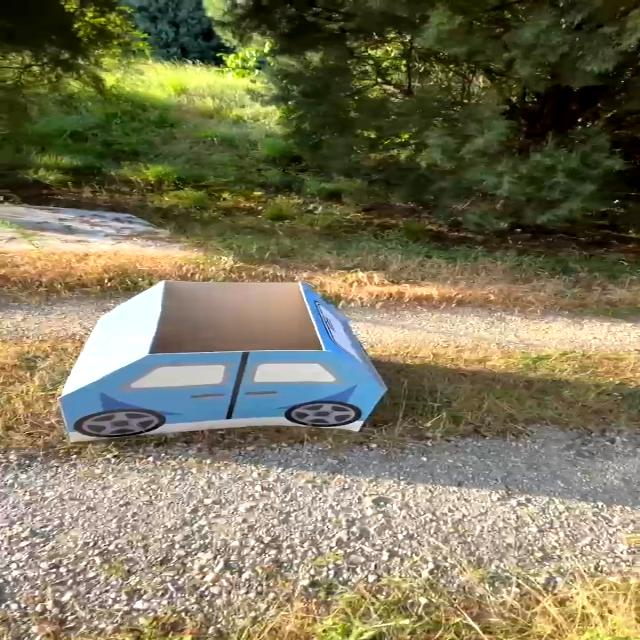blue_car: (4, 273, 425, 454)
